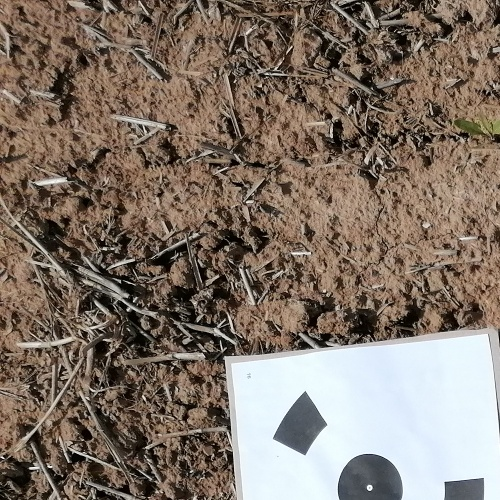beet: (452, 115, 500, 144)
